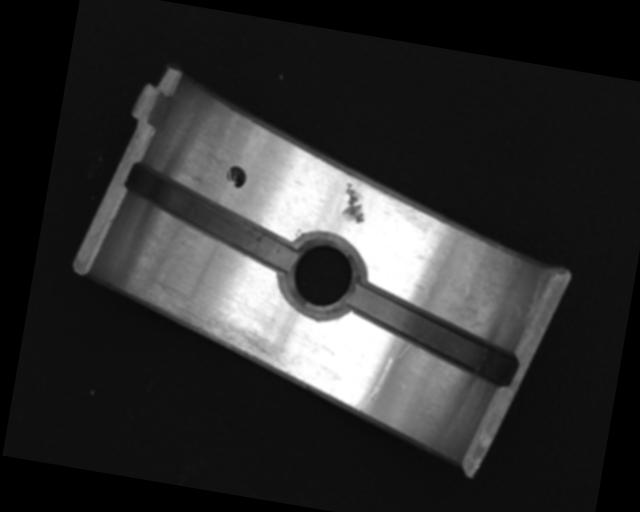blot: (225, 163, 249, 188)
bruise: (338, 181, 371, 225)
gap: (113, 161, 306, 274), (340, 282, 524, 387)
hole: (274, 234, 368, 322)
nick: (355, 354, 392, 417)
scratch: (130, 276, 302, 374)
